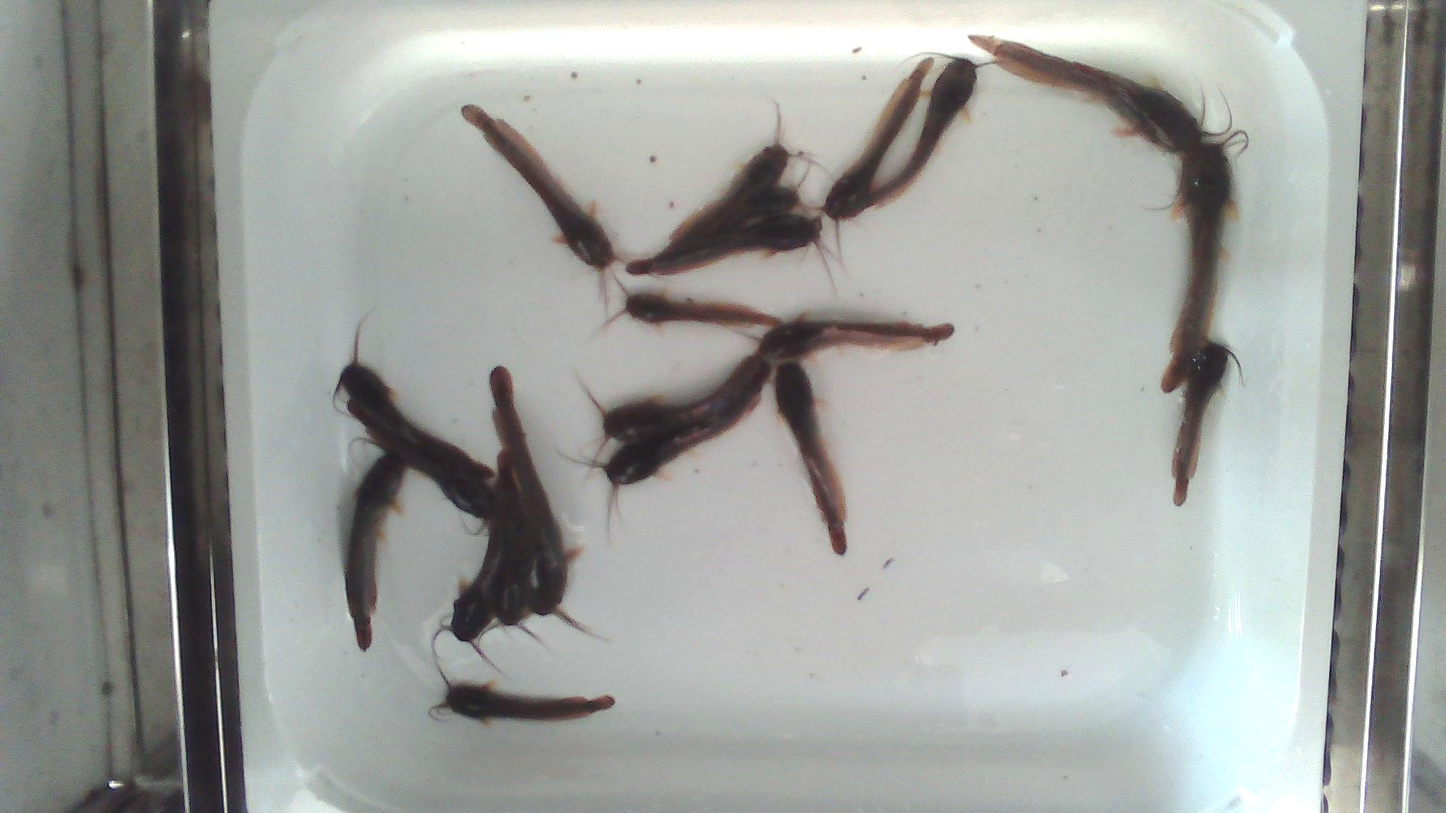lele: (566, 361, 773, 528), (490, 367, 592, 637), (328, 318, 494, 480), (657, 102, 820, 257), (462, 105, 615, 269), (976, 34, 1200, 141), (430, 454, 514, 672), (580, 355, 758, 456), (347, 399, 492, 517), (826, 61, 933, 215), (866, 58, 973, 207), (1171, 143, 1230, 382), (774, 362, 846, 553), (630, 214, 835, 281), (344, 453, 408, 649), (1173, 341, 1233, 505), (703, 168, 811, 237), (762, 319, 952, 354), (438, 684, 614, 720), (486, 538, 544, 644), (626, 293, 781, 327)
